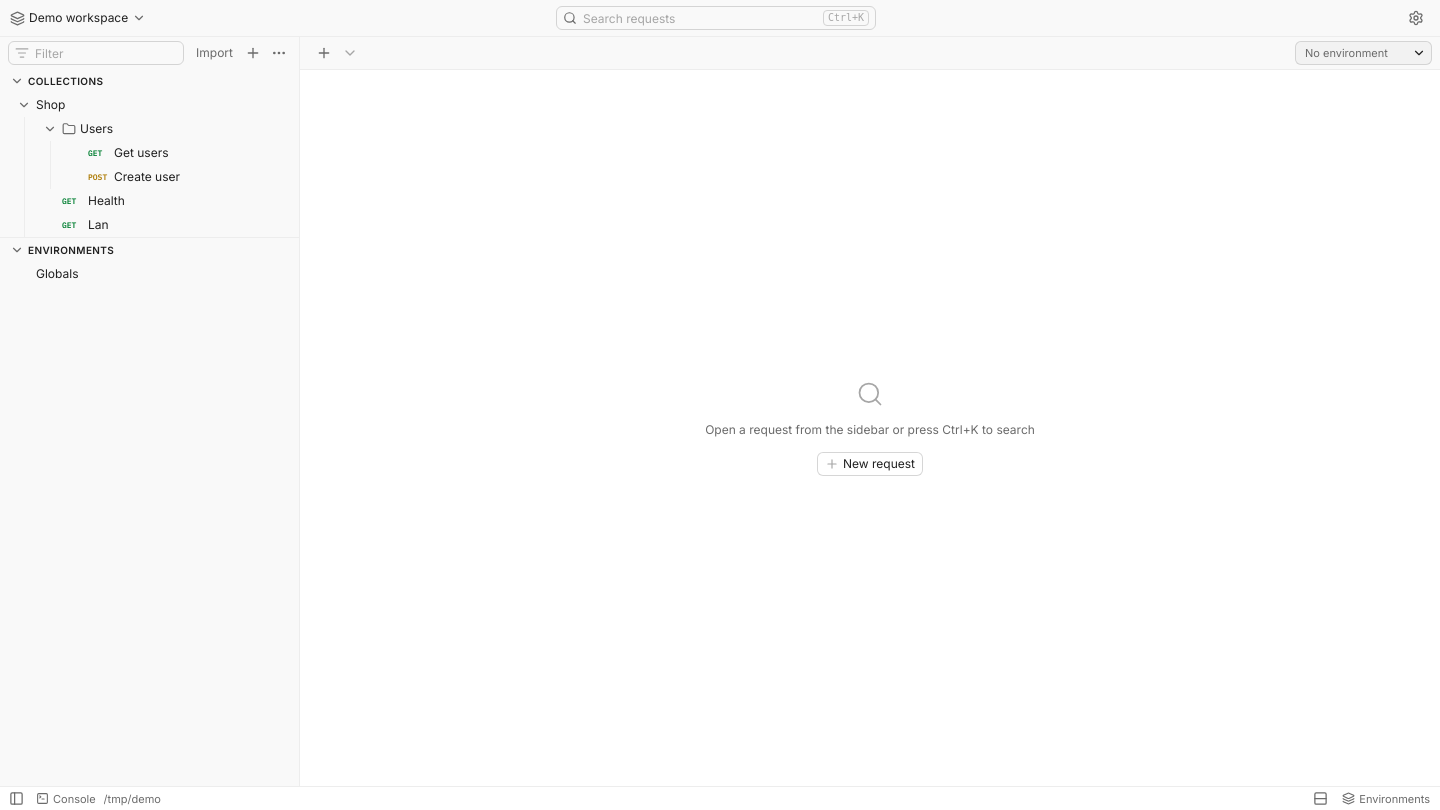
Scenario: configuration › flags Duration (s) = 0 and disables Start
Right-click the list item "Health".
right_click(93, 200)  # box [62,193,125,208]
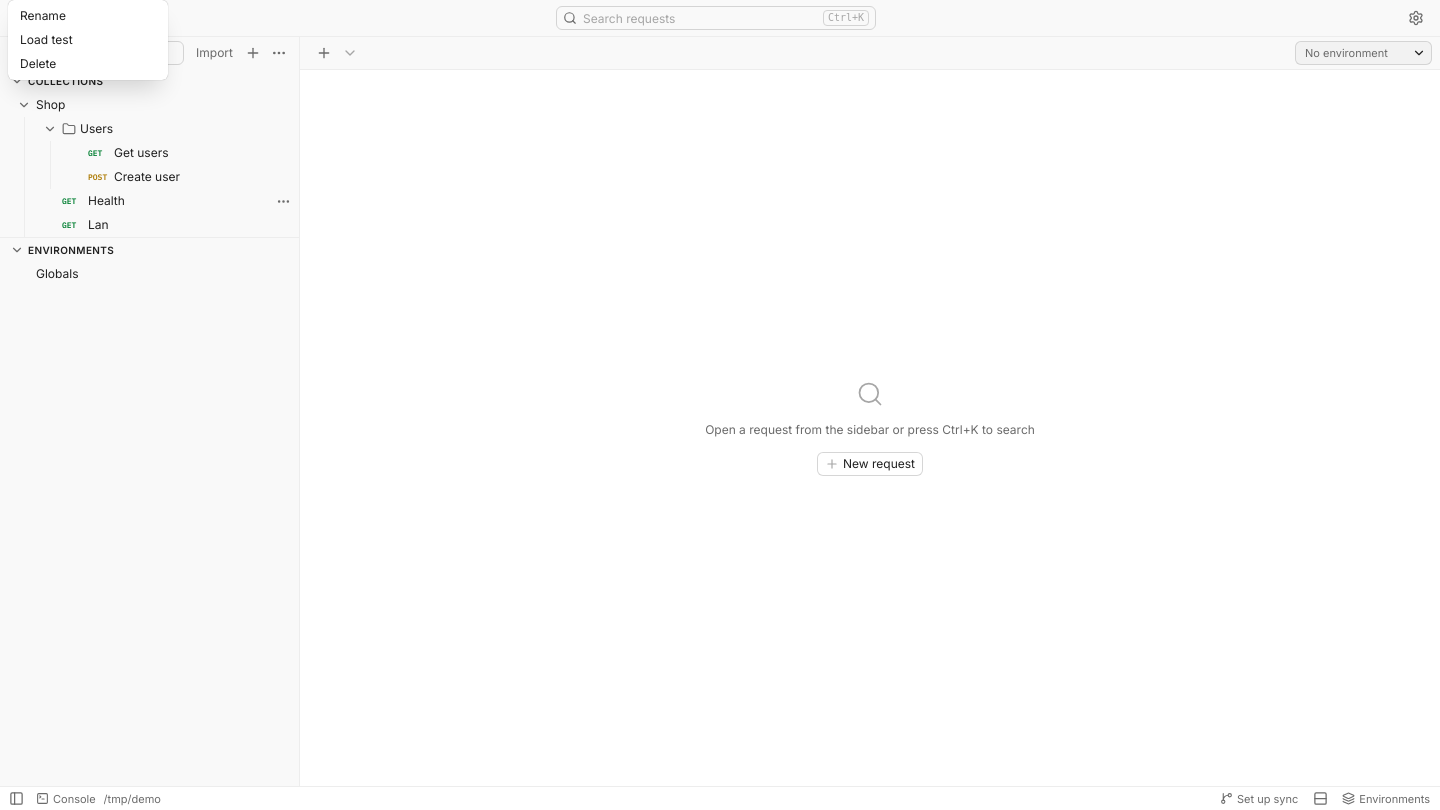
Click the menu item "Load test".
click(88, 40)  # box [12,28,164,52]
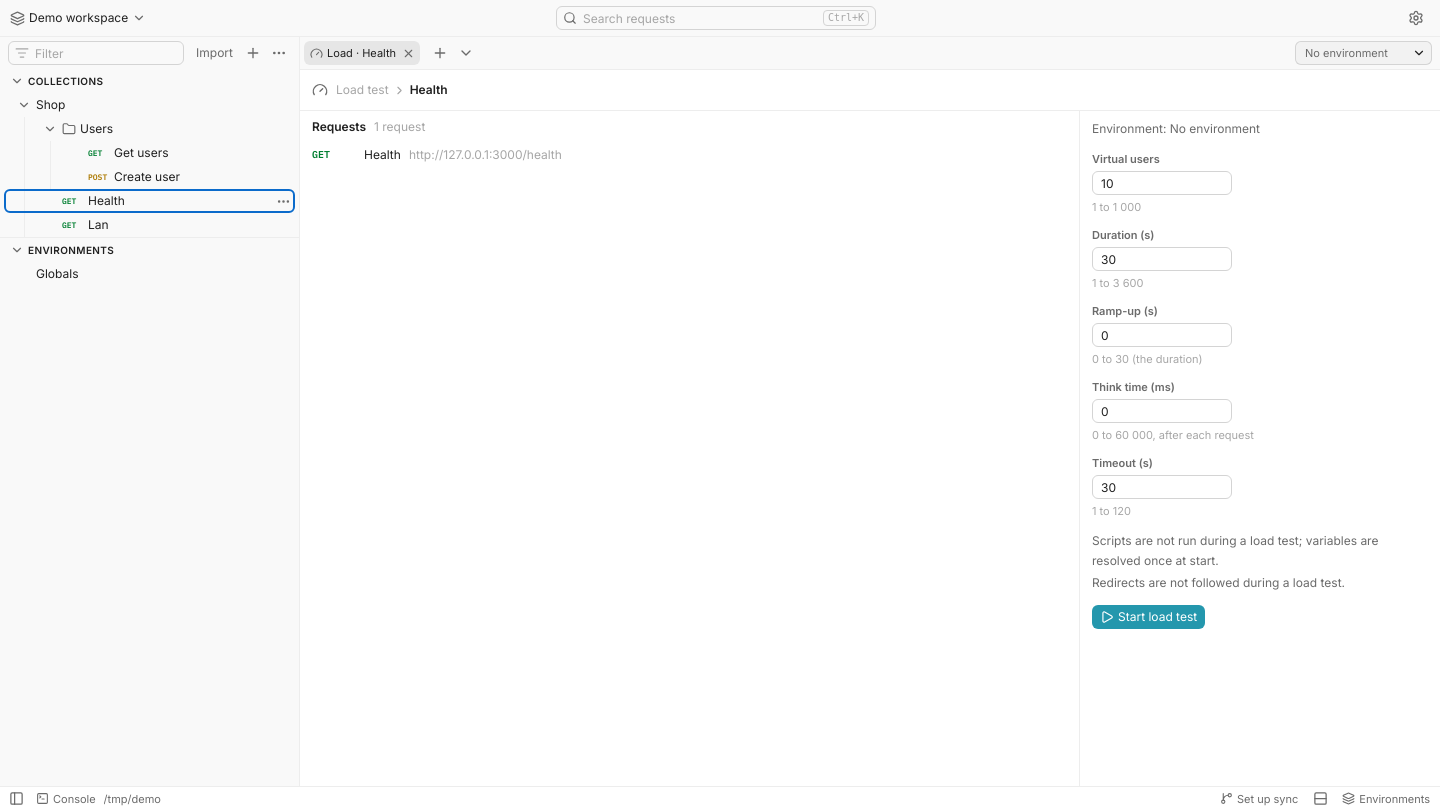
Replace the text in the number field labelled "Duration (s)" with "0" at (1162, 259), box [1092,247,1232,271]
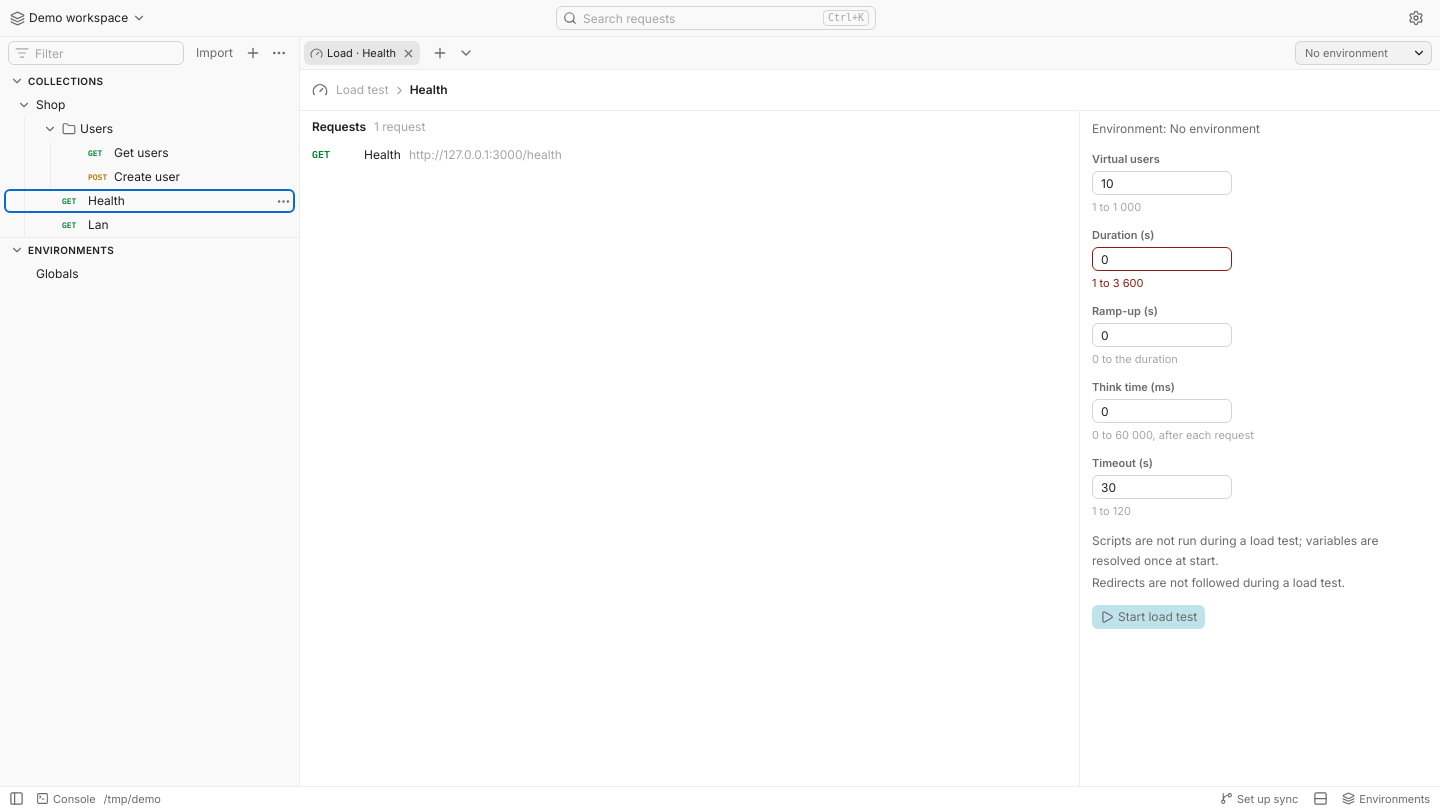
Now the button "Start load test" is disabled, box [1092,605,1205,629]
